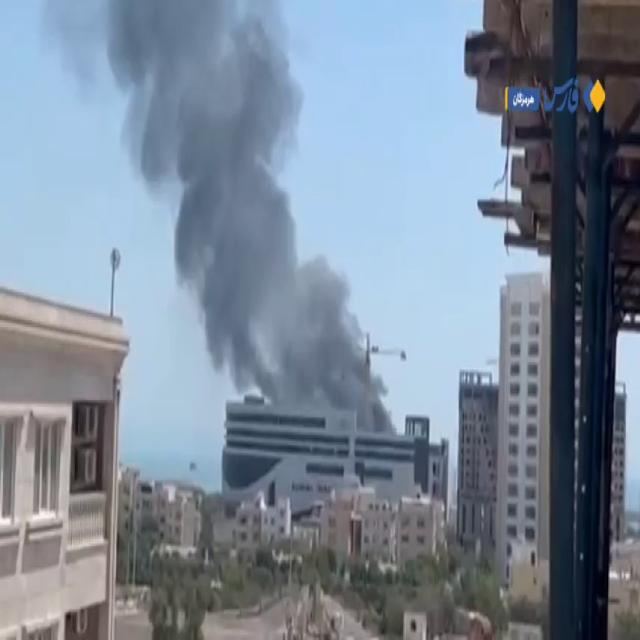smoke: (190, 187, 356, 411), (107, 0, 303, 179)
